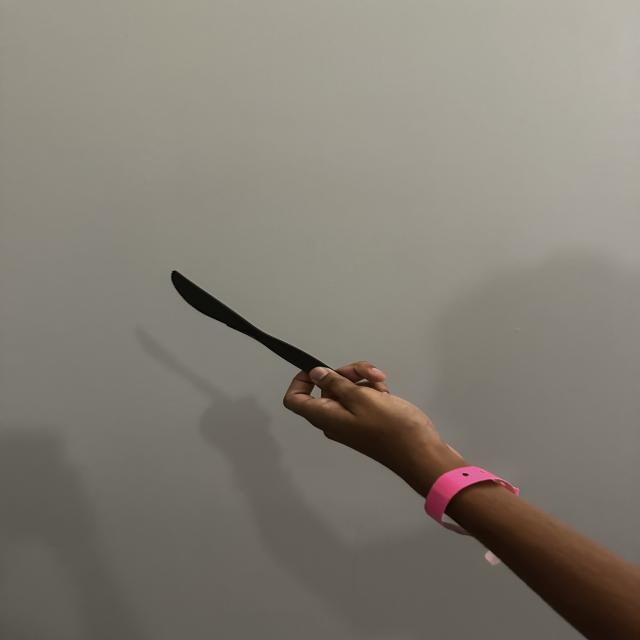knife: (102, 216, 358, 407)
